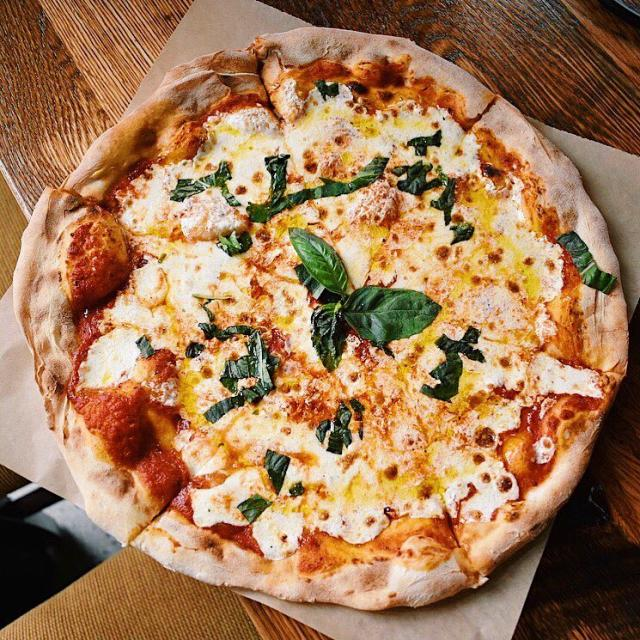basil: (289, 227, 441, 370), (199, 300, 279, 422), (246, 156, 389, 222), (421, 326, 485, 401), (556, 231, 616, 294), (170, 161, 240, 206), (316, 403, 353, 453), (396, 160, 442, 196), (430, 178, 456, 225), (264, 450, 290, 493), (238, 494, 272, 523), (408, 130, 442, 156), (218, 231, 252, 256), (452, 222, 474, 245), (315, 80, 339, 99), (136, 335, 155, 358), (185, 341, 204, 358), (348, 82, 368, 95), (289, 481, 305, 497)
pizza: (15, 27, 628, 610)
